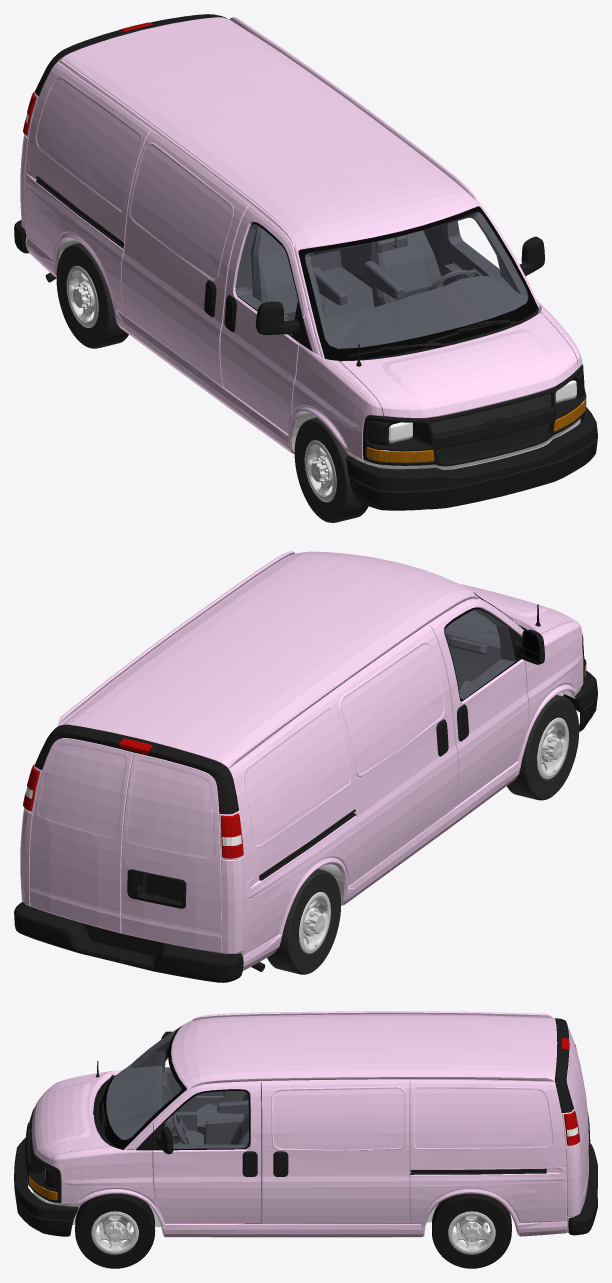
File: urban-blanca.glb
The picture shows the model from 3 angles, top to bottom: view 1: azimuth 30°, elevation 25°; view 2: azimuth 150°, elevation 25°; view 3: azimuth 270°, elevation 25°; orthographic projection. The views are drawn at different scales.
Visible parts, largest first — view 1: CG:car_chevrolet_express_2003_Mesh_lod0M_TrafficCarpaint_Max, CG:car_chevrolet_express_2003_Mesh_lod0M_TrafficOpaque_Chrom, CG:car_chevrolet_express_2003_Mesh_lod0M_TrafficInterior_Max, CG:car_chevrolet_express_2003_Mesh_lod0M_TrafficGlassOpaque_, CG:W2_CG:phong11SG1_0, CG:W4_CG:phong11SG1_0, CG:car_chevrolet_express_2003_Mesh_lod0M_TrafficGrilleA_Max_, CG:W4Rim_4_CG:phong13SG1_0, CG:W2Rim_2_CG:phong13SG1_0_CGphong13SG1_0.001, CG:car_chevrolet_express_2003_Mesh_lod0M_TrafficChassis_Max_, CG:car_chevrolet_express_2003_Mesh_lod0M_TrafficLightGlass_M, CG:car_chevrolet_express_2003_Mesh_lod0M_TrafficLight_Max_CG; view 2: CG:car_chevrolet_express_2003_Mesh_lod0M_TrafficCarpaint_Max, CG:car_chevrolet_express_2003_Mesh_lod0M_TrafficOpaque_Chrom, CG:car_chevrolet_express_2003_Mesh_lod0M_TrafficInterior_Max, CG:W4_CG:phong11SG1_0, CG:W2_CG:phong11SG1_0, CG:W2Rim_2_CG:phong13SG1_0_CGphong13SG1_0.001, CG:W4Rim_4_CG:phong13SG1_0, CG:car_chevrolet_express_2003_Mesh_lod0M_TrafficLightGlass_M, CG:car_chevrolet_express_2003_Mesh_lod0M_TrafficGlassOpaque_, CG:car_chevrolet_express_2003_Mesh_lod0M_TrafficLicensePlate; view 3: CG:car_chevrolet_express_2003_Mesh_lod0M_TrafficCarpaint_Max, CG:car_chevrolet_express_2003_Mesh_lod0M_TrafficOpaque_Chrom, CG:car_chevrolet_express_2003_Mesh_lod0M_TrafficInterior_Max, CG:W1_CG:phong11SG1_0, CG:W3_CG:phong11SG1_0, CG:W3Rim_3_CG:phong13SG1_0_CGphong13SG1_0.001, CG:W1RIM_1_CG:phong13SG1_0_CGphong13SG1_0.001, CG:car_chevrolet_express_2003_Mesh_lod0M_TrafficGlassOpaque_, CG:car_chevrolet_express_2003_Mesh_lod0M_TrafficLightGlass_M, CG:car_chevrolet_express_2003_Mesh_lod0M_TrafficChassis_Max_.
Boxes of the visible parts, box(x1,y1,x2,y2) form: CG:car_chevrolet_express_2003_Mesh_lod0M_TrafficCarpaint_Max: box(20, 17, 582, 459); CG:car_chevrolet_express_2003_Mesh_lod0M_TrafficOpaque_Chrom: box(14, 14, 597, 510); CG:car_chevrolet_express_2003_Mesh_lod0M_TrafficInterior_Max: box(235, 205, 528, 433); CG:car_chevrolet_express_2003_Mesh_lod0M_TrafficGlassOpaque_: box(235, 206, 538, 360); CG:W2_CG:phong11SG1_0: box(294, 417, 368, 522); CG:W4_CG:phong11SG1_0: box(56, 243, 128, 348); CG:car_chevrolet_express_2003_Mesh_lod0M_TrafficGrilleA_Max_: box(430, 393, 551, 461); CG:W4Rim_4_CG:phong13SG1_0: box(66, 266, 98, 328); CG:W2Rim_2_CG:phong13SG1_0_CGphong13SG1_0.001: box(304, 440, 336, 502); CG:car_chevrolet_express_2003_Mesh_lod0M_TrafficChassis_Max_: box(25, 230, 580, 469); CG:car_chevrolet_express_2003_Mesh_lod0M_TrafficLightGlass_M: box(366, 397, 586, 462); CG:car_chevrolet_express_2003_Mesh_lod0M_TrafficLight_Max_CG: box(25, 113, 583, 461); CG:car_chevrolet_express_2003_Mesh_lod0M_TrafficCarpaint_Max: box(20, 551, 583, 970); CG:car_chevrolet_express_2003_Mesh_lod0M_TrafficOpaque_Chrom: box(14, 604, 597, 982); CG:car_chevrolet_express_2003_Mesh_lod0M_TrafficInterior_Max: box(445, 609, 515, 699); CG:W4_CG:phong11SG1_0: box(267, 869, 340, 974); CG:W2_CG:phong11SG1_0: box(506, 695, 579, 800); CG:W2Rim_2_CG:phong13SG1_0_CGphong13SG1_0.001: box(537, 717, 568, 779); CG:W4Rim_4_CG:phong13SG1_0: box(299, 892, 330, 953); CG:car_chevrolet_express_2003_Mesh_lod0M_TrafficLightGlass_M: box(23, 738, 243, 858); CG:car_chevrolet_express_2003_Mesh_lod0M_TrafficGlassOpaque_: box(444, 592, 539, 701); CG:car_chevrolet_express_2003_Mesh_lod0M_TrafficLicensePlate: box(146, 874, 181, 900); CG:car_chevrolet_express_2003_Mesh_lod0M_TrafficCarpaint_Max: box(31, 1011, 588, 1237); CG:car_chevrolet_express_2003_Mesh_lod0M_TrafficOpaque_Chrom: box(14, 1018, 597, 1236); CG:car_chevrolet_express_2003_Mesh_lod0M_TrafficInterior_Max: box(106, 1028, 261, 1223); CG:W1_CG:phong11SG1_0: box(75, 1193, 155, 1268); CG:W3_CG:phong11SG1_0: box(432, 1193, 511, 1268); CG:W3Rim_3_CG:phong13SG1_0_CGphong13SG1_0.001: box(448, 1211, 495, 1254); CG:W1RIM_1_CG:phong13SG1_0_CGphong13SG1_0.001: box(91, 1211, 138, 1254); CG:car_chevrolet_express_2003_Mesh_lod0M_TrafficGlassOpaque_: box(99, 1026, 250, 1150); CG:car_chevrolet_express_2003_Mesh_lod0M_TrafficLightGlass_M: box(561, 1038, 580, 1145); CG:car_chevrolet_express_2003_Mesh_lod0M_TrafficChassis_Max_: box(32, 1190, 574, 1232).
Bounding box in the file's own units: 3.89 × 3.24 × 9.15.
